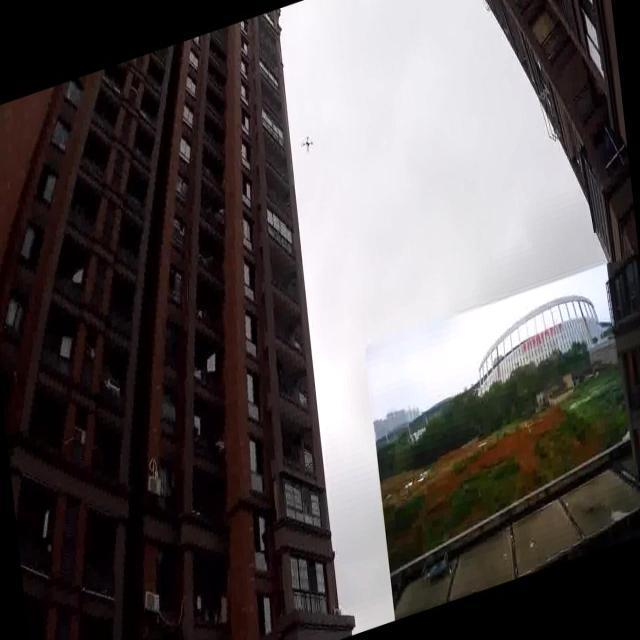drone: (301, 126, 319, 158)
